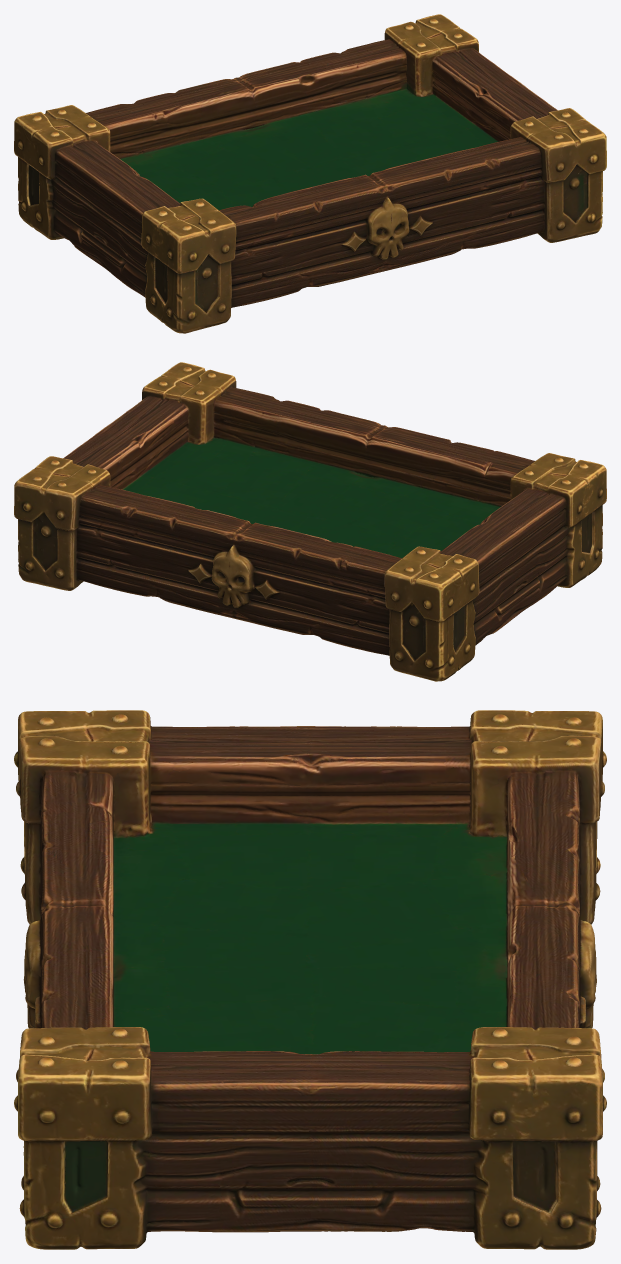
File: sot_dealer_tray.glb
3 renders of one model, top to bottom at view 1: azimuth 30°, elevation 25°; view 2: azimuth 150°, elevation 25°; view 3: azimuth 270°, elevation 25°, orthographic. The views are drawn at different scales.
Size of the model in its own units: 1.9 by 0.4387 by 1.28.
Materials: 1 (1 with a texture image).
